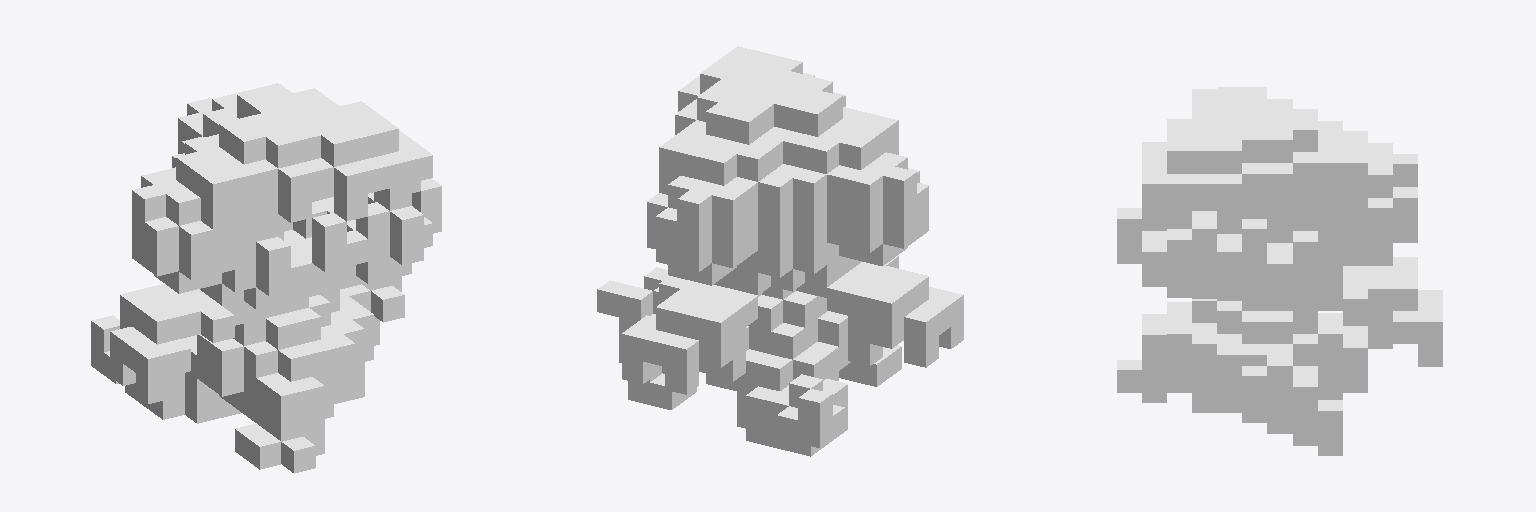
Rendered from FygarWalk2Quarter.obj.
3 views of the same model, side by side, from view 1: azimuth 30°, elevation 25°; view 2: azimuth 150°, elevation 25°; view 3: azimuth 270°, elevation 25° (orthographic).
Visible parts, largest first — view 1: FygarQuarter; view 2: FygarQuarter; view 3: FygarQuarter.
Boxes of the visible parts, x1,y1,x2,y2 form: FygarQuarter: [91, 83, 441, 473]; FygarQuarter: [597, 46, 963, 456]; FygarQuarter: [1117, 87, 1442, 455].
Size of the model in its own units: 1.4 by 1.3 by 1.3.